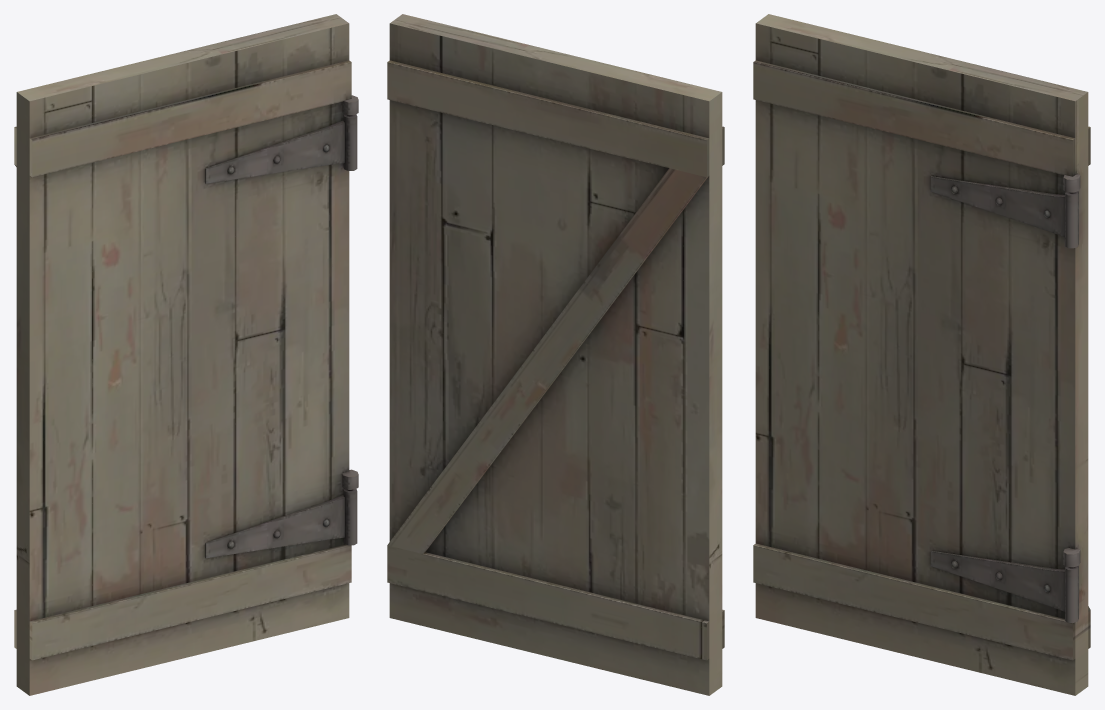
3 views of the same model, side by side, from view 1: azimuth 30°, elevation 25°; view 2: azimuth 150°, elevation 25°; view 3: azimuth 330°, elevation 25° (orthographic).
Visible parts, largest first — view 1: body0_model0_lod0_mesh0; view 2: body0_model0_lod0_mesh0; view 3: body0_model0_lod0_mesh0.
Boxes of the visible parts, box(x1,y1,x2,y2) form: body0_model0_lod0_mesh0: box(14, 14, 358, 695); body0_model0_lod0_mesh0: box(387, 14, 724, 695); body0_model0_lod0_mesh0: box(753, 14, 1090, 695).
Size of the model in its own units: 73.37 by 128 by 8.7.
1 material, 1 textured.
